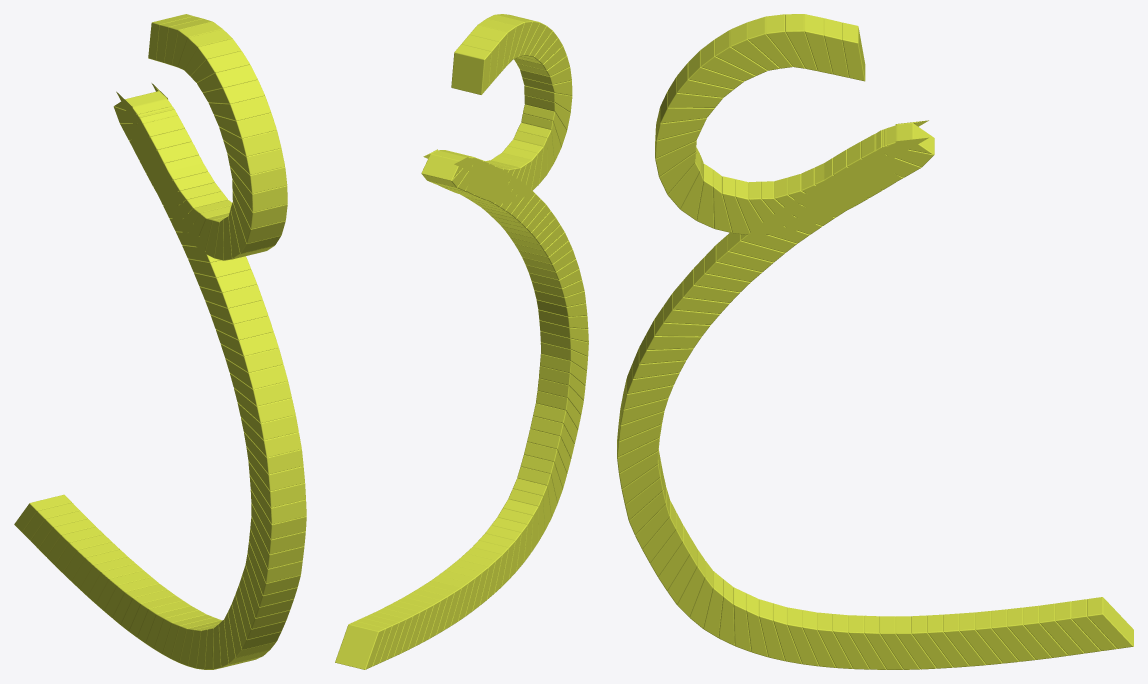
Rendered from ain.fbx.
The picture shows the model from 3 angles, left to right: view 1: azimuth 30°, elevation 25°; view 2: azimuth 150°, elevation 25°; view 3: azimuth 270°, elevation 25°; orthographic projection. The views are drawn at different scales.
Visible parts, largest first — view 1: Cube; view 2: Cube; view 3: Cube.
Part boxes in pixels (box(x1,y1,x2,y2)): Cube: box(14, 14, 306, 669); Cube: box(335, 14, 588, 669); Cube: box(617, 14, 1133, 669).
Bounding box in the file's own units: 60 × 1035 × 758.
